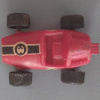rojo_oeste: (1, 13, 98, 86)
